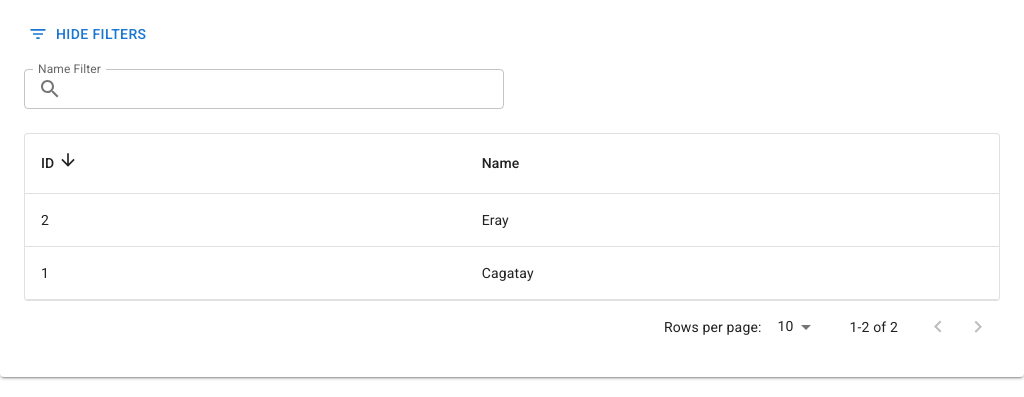
it: DataTable › Filters › filters data based on text input
Type "Cagatay" into the field labelled "Name Filter" at (287, 88), box [70,68,504,108]
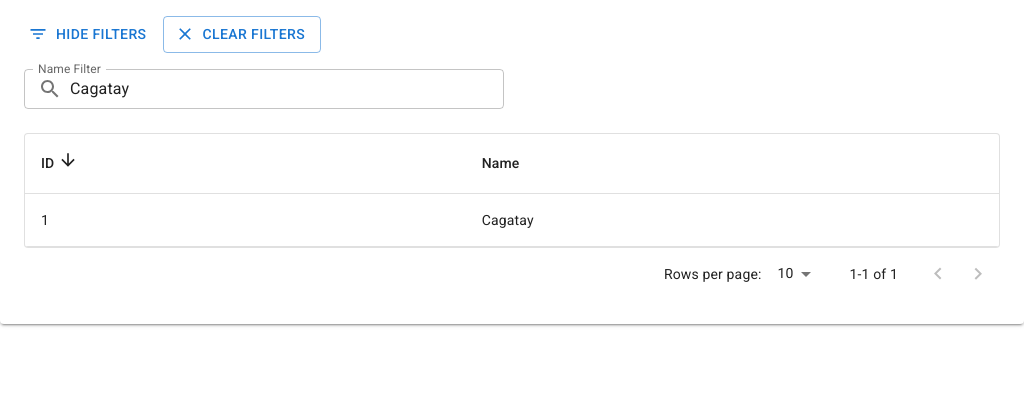
Expected: the text "Cagatay" is shown, [466,193,999,246]
Expected: the number of rows is 2, [25,134,999,193]; [25,193,999,246]
Expected: the text "Eray" is gone
